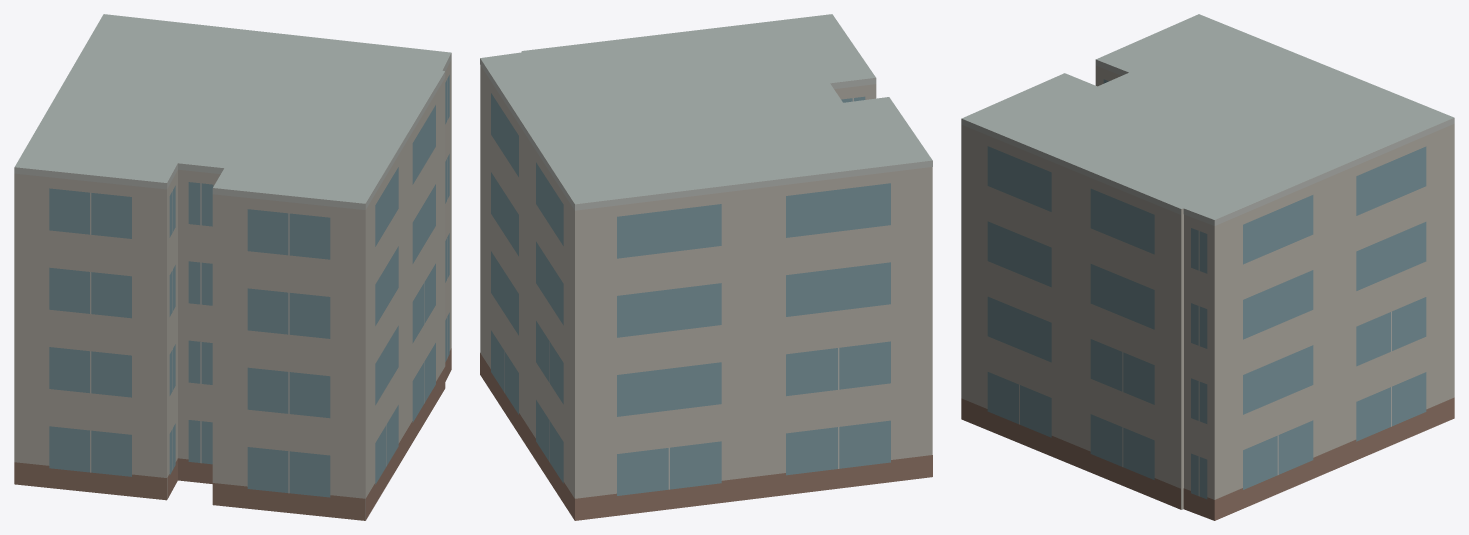
The model's file is survey-upis-32889536.glb.
The picture shows the model from 3 angles, left to right: view 1: azimuth 30°, elevation 25°; view 2: azimuth 150°, elevation 25°; view 3: azimuth 270°, elevation 25°; orthographic projection. The views are drawn at different scales.
Visible parts, largest first — view 1: survey-upis-32889536.tmp; view 2: survey-upis-32889536.tmp; view 3: survey-upis-32889536.tmp.
Part boxes in pixels (<box>): survey-upis-32889536.tmp: <box>14,14,451,520</box>; survey-upis-32889536.tmp: <box>480,14,932,520</box>; survey-upis-32889536.tmp: <box>961,14,1454,520</box>.
Size of the model in its own units: 17.94 by 12.2 by 18.13.
